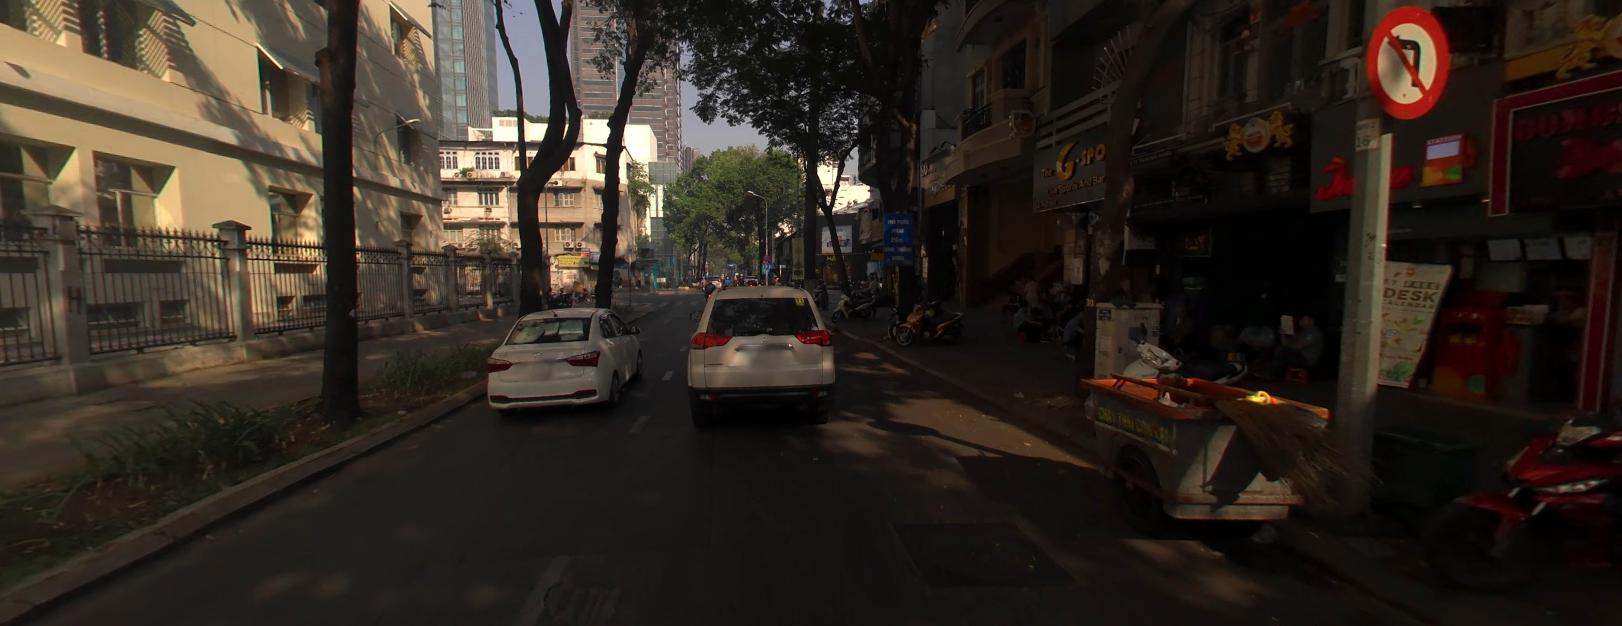Cam dung va do: (763, 254, 770, 259)
Cam re: (1364, 4, 1451, 121)
